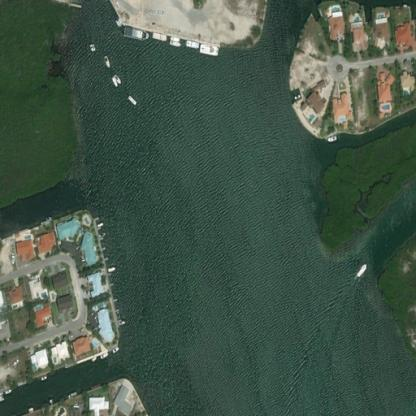ship: (120, 19, 150, 42), (198, 36, 220, 62), (180, 31, 199, 55), (353, 258, 369, 280), (150, 24, 166, 45), (166, 28, 180, 51), (106, 71, 124, 87), (84, 39, 100, 54), (125, 90, 136, 107), (101, 53, 113, 66)
